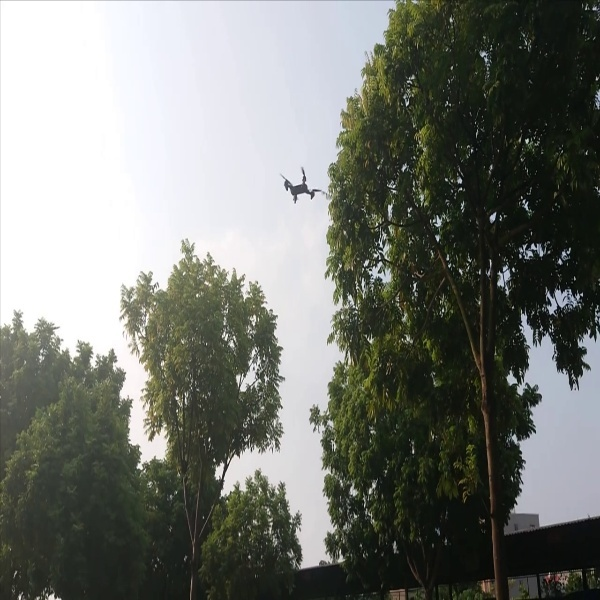drone: (267, 161, 328, 211)
